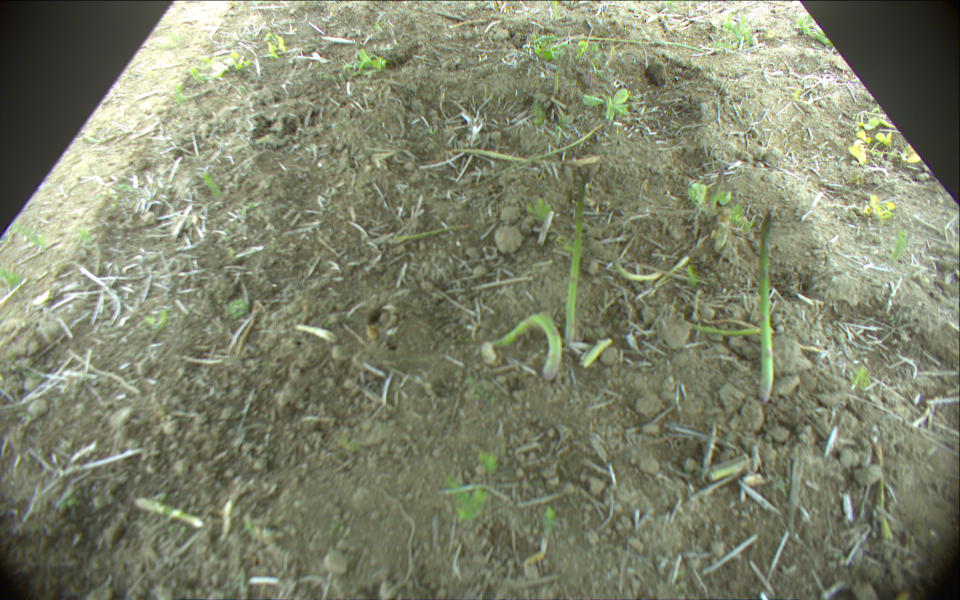aspa: (492, 313, 562, 385), (757, 212, 775, 400), (566, 182, 584, 345), (609, 253, 669, 279), (686, 324, 774, 336), (582, 338, 611, 368)
